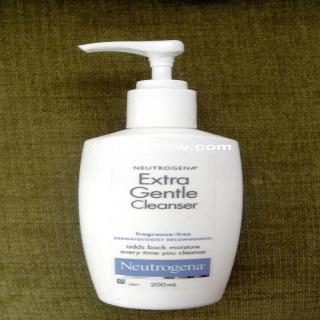Plastic-bottle: (70, 38, 250, 316)
